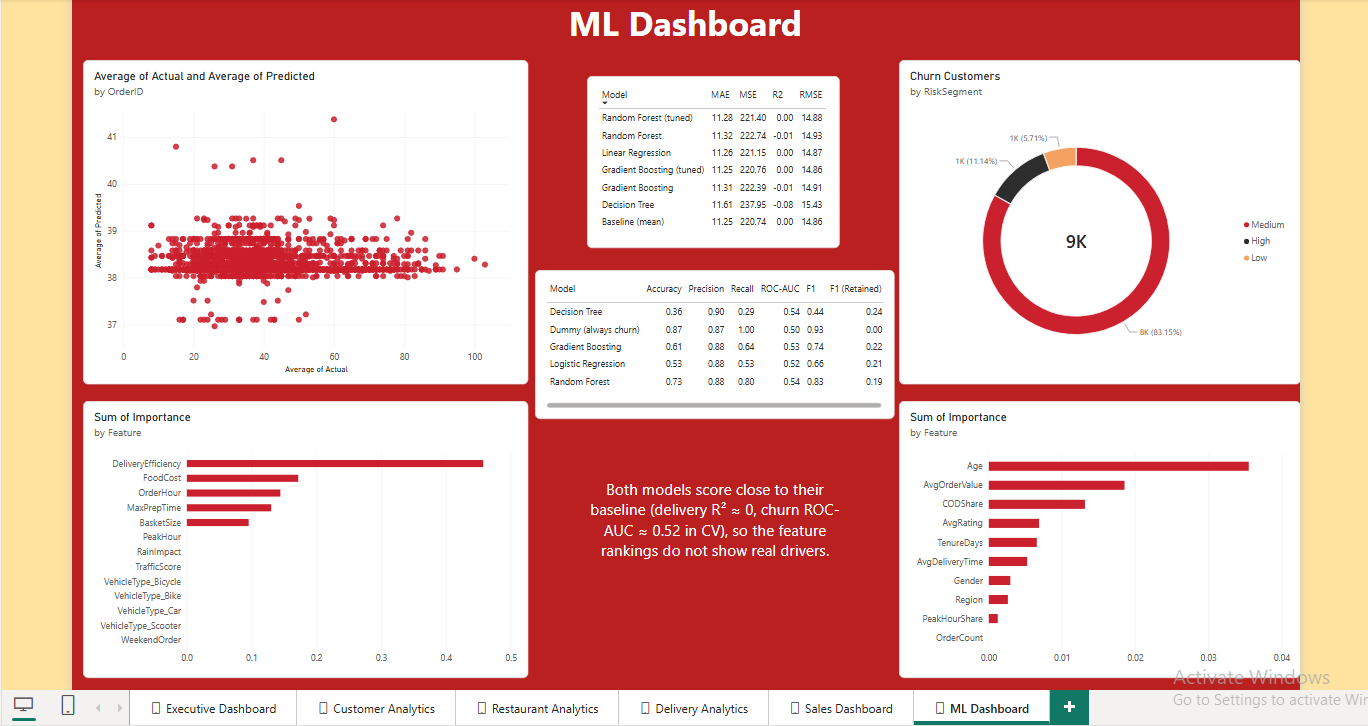

The dashboard page shown, as its layout file describes it:
{"tool":"powerbi","page":{"name":"ML Dashboard","canvas":[1920,1080],"ordinal":5},"visuals":[{"type":"scatterChart","fields":{"Category":["DeliveryPredictions.OrderID"],"X":["DeliveryPredictions.Actual"],"Y":["DeliveryPredictions.Predicted"]},"box":[16.9,95.2,695.7,507.5],"z":0},{"type":"textbox","box":[0,0,1917.4,94.4],"z":1},{"type":"clusteredBarChart","fields":{"Category":["DeliveryImportance.Feature"],"Y":["Sum(DeliveryImportance.Importance)"]},"box":[16.9,628,695.7,433.5],"z":2},{"type":"tableEx","fields":{"Values":["DeliveryModels.Model","DeliveryModels.MAE","DeliveryModels.MSE","DeliveryModels.R2","DeliveryModels.RMSE"]},"box":[805.6,120.5,395.4,268.5],"z":3},{"type":"donutChart","fields":{"Category":["ChurnScores.RiskSegment"],"Y":["_Measures.Churn Customers"]},"box":[1292,95.2,628,507.5],"z":4},{"type":"clusteredBarChart","fields":{"Category":["ChurnDrivers.Feature"],"Y":["Sum(ChurnDrivers.Importance)"]},"box":[1292,628,628,433.5],"z":5},{"type":"tableEx","fields":{"Values":["ChurnModels.Model","ChurnModels.Accuracy","ChurnModels.Precision","ChurnModels.Recall","ChurnModels.ROC-AUC","ChurnModels.F1","ChurnModels.F1 (Retained)"]},"box":[723.2,422.9,562.5,232.6],"z":6},{"type":"textbox","box":[797.2,748.5,416,163],"z":7}]}

Visuals, with their boxes in screenshot pixels (x1, y1, x2, y2):
scatterChart - DeliveryPredictions.OrderID x DeliveryPredictions.Actual: [x1=79, y1=57, x2=524, y2=382]
textbox: [x1=68, y1=0, x2=1295, y2=57]
clusteredBarChart - DeliveryImportance.Feature x Sum(DeliveryImportance.Importance): [x1=79, y1=398, x2=524, y2=676]
tableEx - DeliveryModels.Model x DeliveryModels.MAE: [x1=583, y1=74, x2=836, y2=245]
donutChart - ChurnScores.RiskSegment x _Measures.Churn Customers: [x1=895, y1=57, x2=1297, y2=382]
clusteredBarChart - ChurnDrivers.Feature x Sum(ChurnDrivers.Importance): [x1=895, y1=398, x2=1297, y2=676]
tableEx - ChurnModels.Model x ChurnModels.Accuracy: [x1=531, y1=267, x2=891, y2=416]
textbox: [x1=578, y1=476, x2=844, y2=580]
